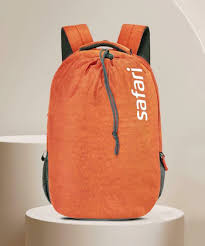backpack: (41, 23, 168, 219)
